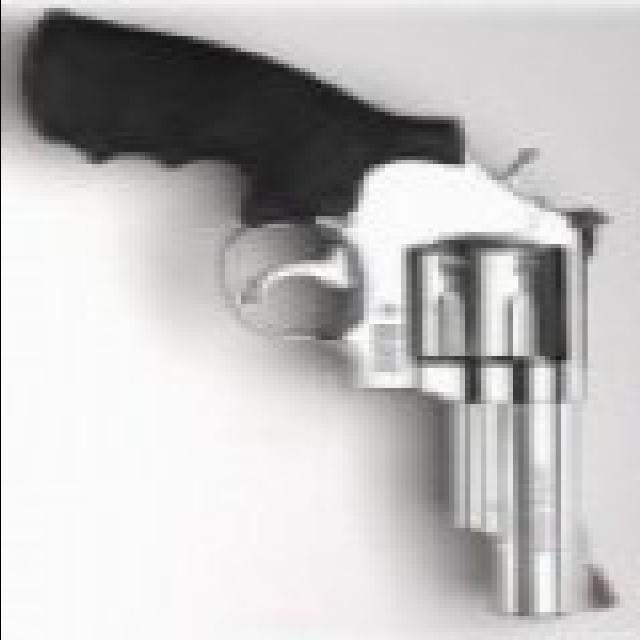handgun: (42, 12, 624, 612)
